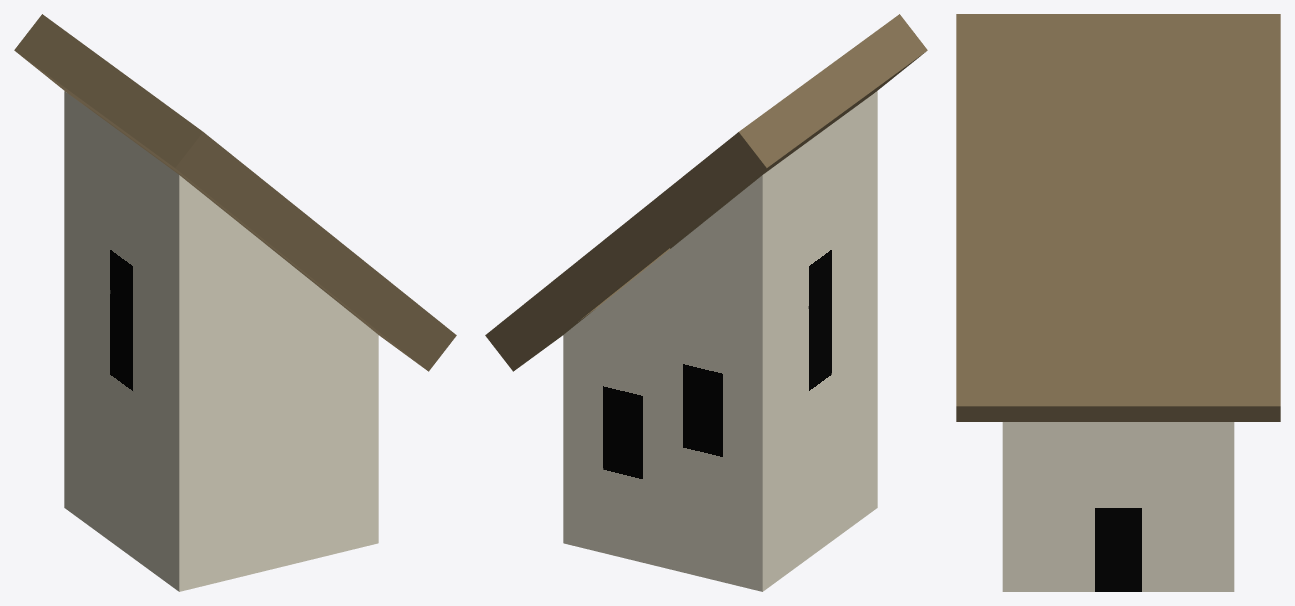
File: Farm House.obj
3 views of the same model, side by side, from view 1: azimuth 30°, elevation 25°; view 2: azimuth 150°, elevation 25°; view 3: azimuth 270°, elevation 25° (orthographic).
Visible parts, largest first — view 1: Body, Roof; view 2: Body, Roof; view 3: Roof, Body.
Boxes of the visible parts, box(x1,y1,x2,y2) form: Body: box(64, 91, 378, 591); Roof: box(14, 14, 456, 371); Body: box(563, 91, 877, 591); Roof: box(485, 14, 927, 371); Roof: box(956, 14, 1280, 421); Body: box(1002, 422, 1234, 591).
Bounding box in the file's own units: 2.65 × 4.29 × 2.62.
Materials: 1 (1 with a texture image).
